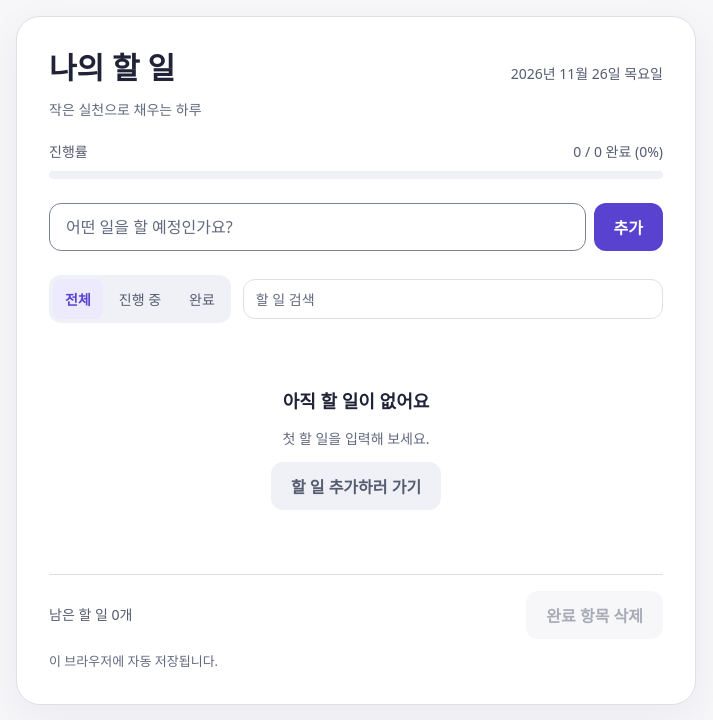
App 통합 및 접근성 테스트 › 수정 버튼 클릭 후 내용 편집 및 Enter 저장/Esc 취소가 정상 동작한다
Type "수정할 항목" into the field with placeholder "어떤 일을 할 예정인가요?" at (317, 227), box left=49, top=203, right=586, bottom=251
Then press Enter
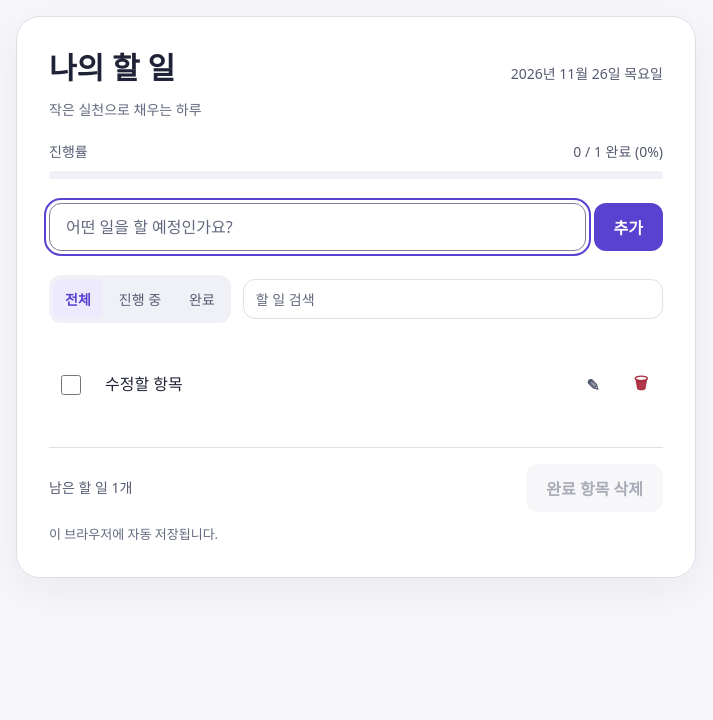
Click the button titled "수정" at (593, 385), box left=571, top=363, right=615, bottom=407
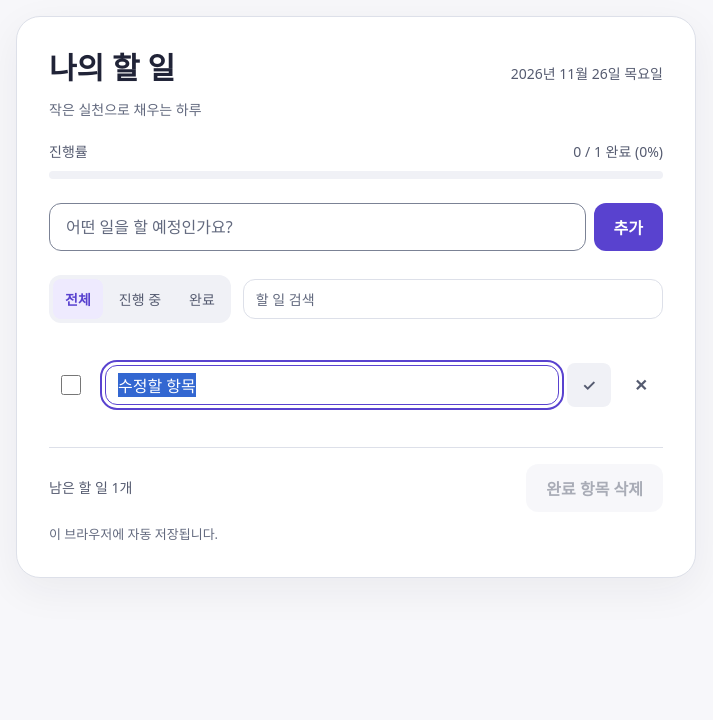
Replace the text in the field named "할 일 내용 수정" with "수정 완료" at (332, 385), box left=105, top=365, right=559, bottom=405
Then press Enter
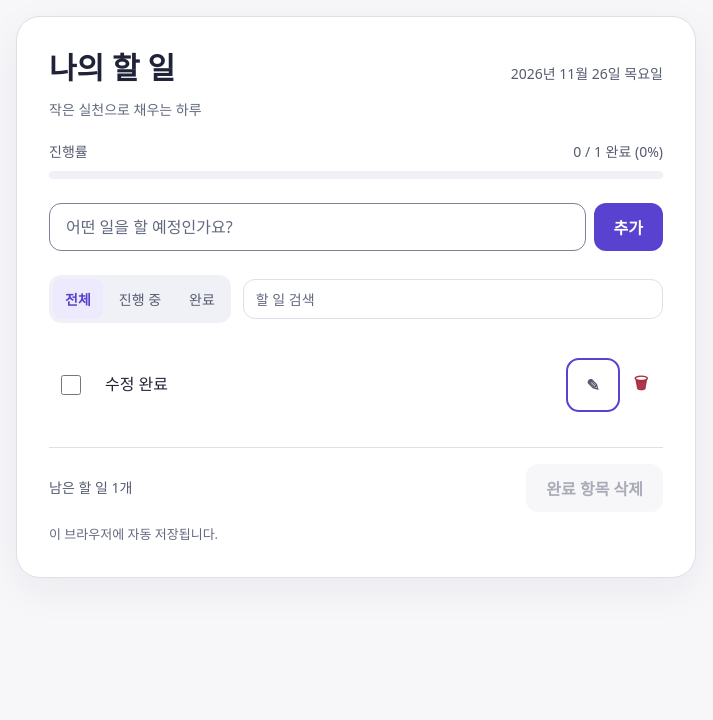
Now the text "수정 완료" is shown, box left=105, top=374, right=168, bottom=396
